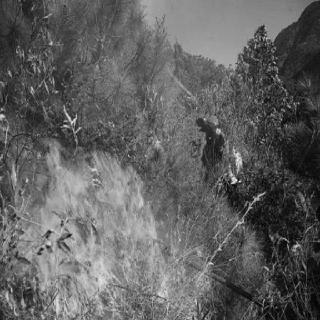Fire: (4, 81, 180, 315)
